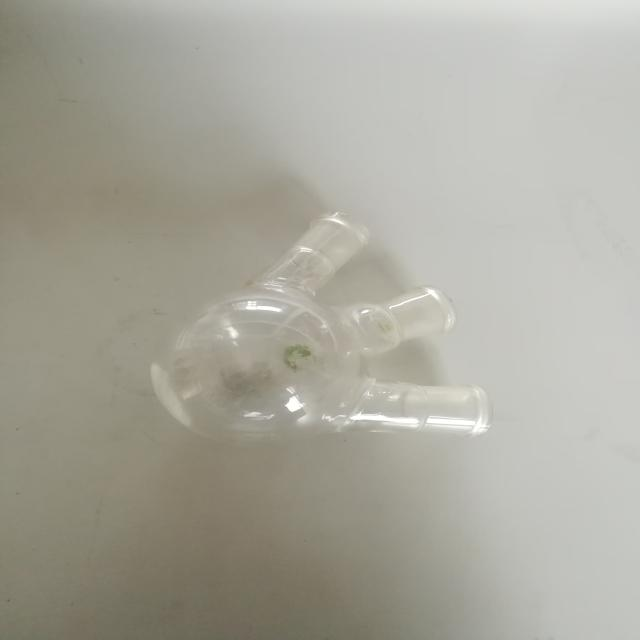Round_Bottom_Flask_Borosilicate_Glass_3_Neck: (140, 189, 533, 483)
